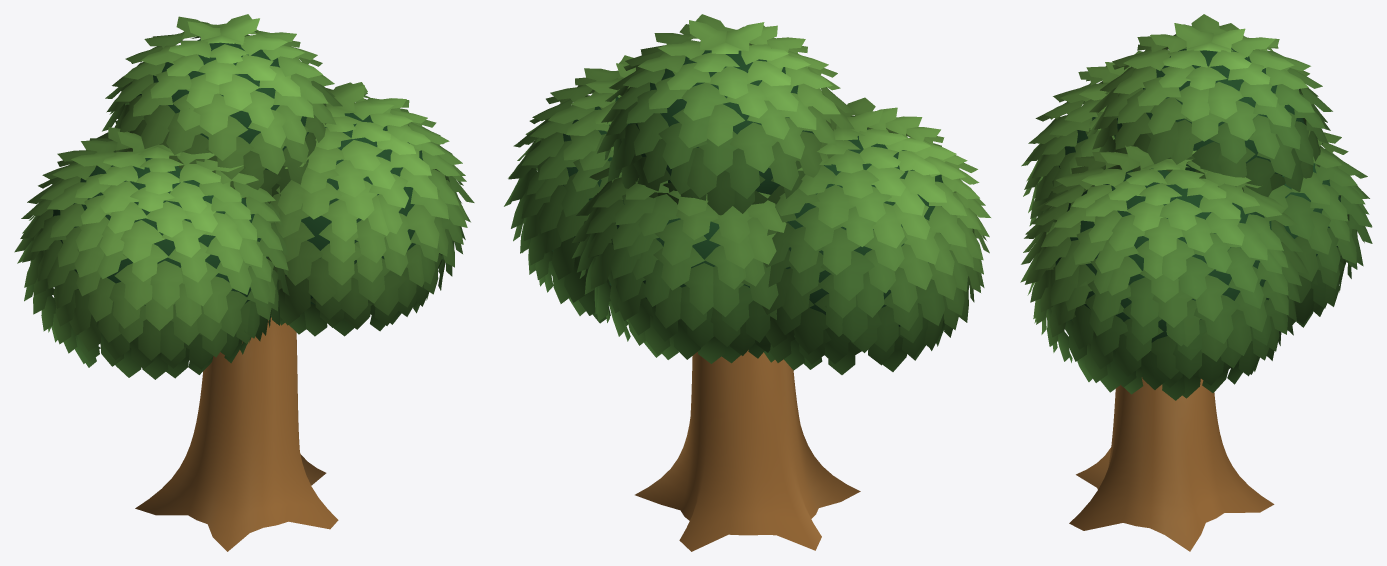
Rendered from tree_round_a.glb.
3 renders of one model, left to right at view 1: azimuth 30°, elevation 25°; view 2: azimuth 150°, elevation 25°; view 3: azimuth 270°, elevation 25°, orthographic. The views are drawn at different scales.
Parts seen in each view (by area): view 1: tree_round_a; view 2: tree_round_a; view 3: tree_round_a.
Part boxes in pixels (<box>): tree_round_a: <box>14,14,474,551</box>; tree_round_a: <box>504,14,990,551</box>; tree_round_a: <box>1020,14,1372,551</box>.
Bounding box in the file's own units: 3.5 × 3.68 × 2.49.
